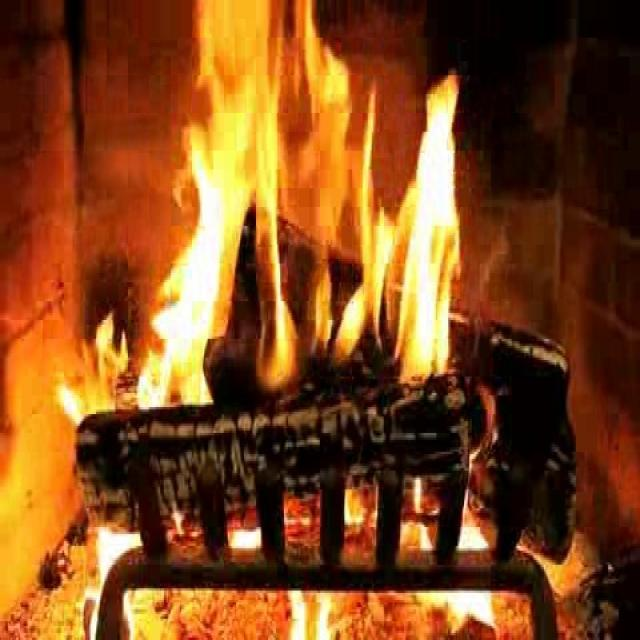Fire: (55, 10, 549, 640)
